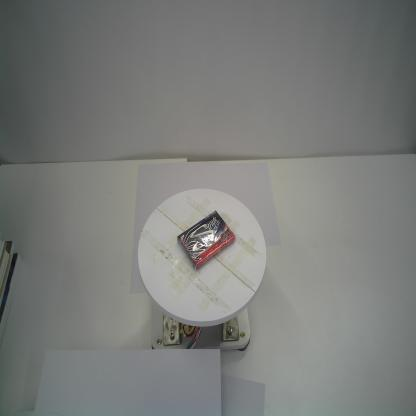Gum: (176, 209, 236, 272)
